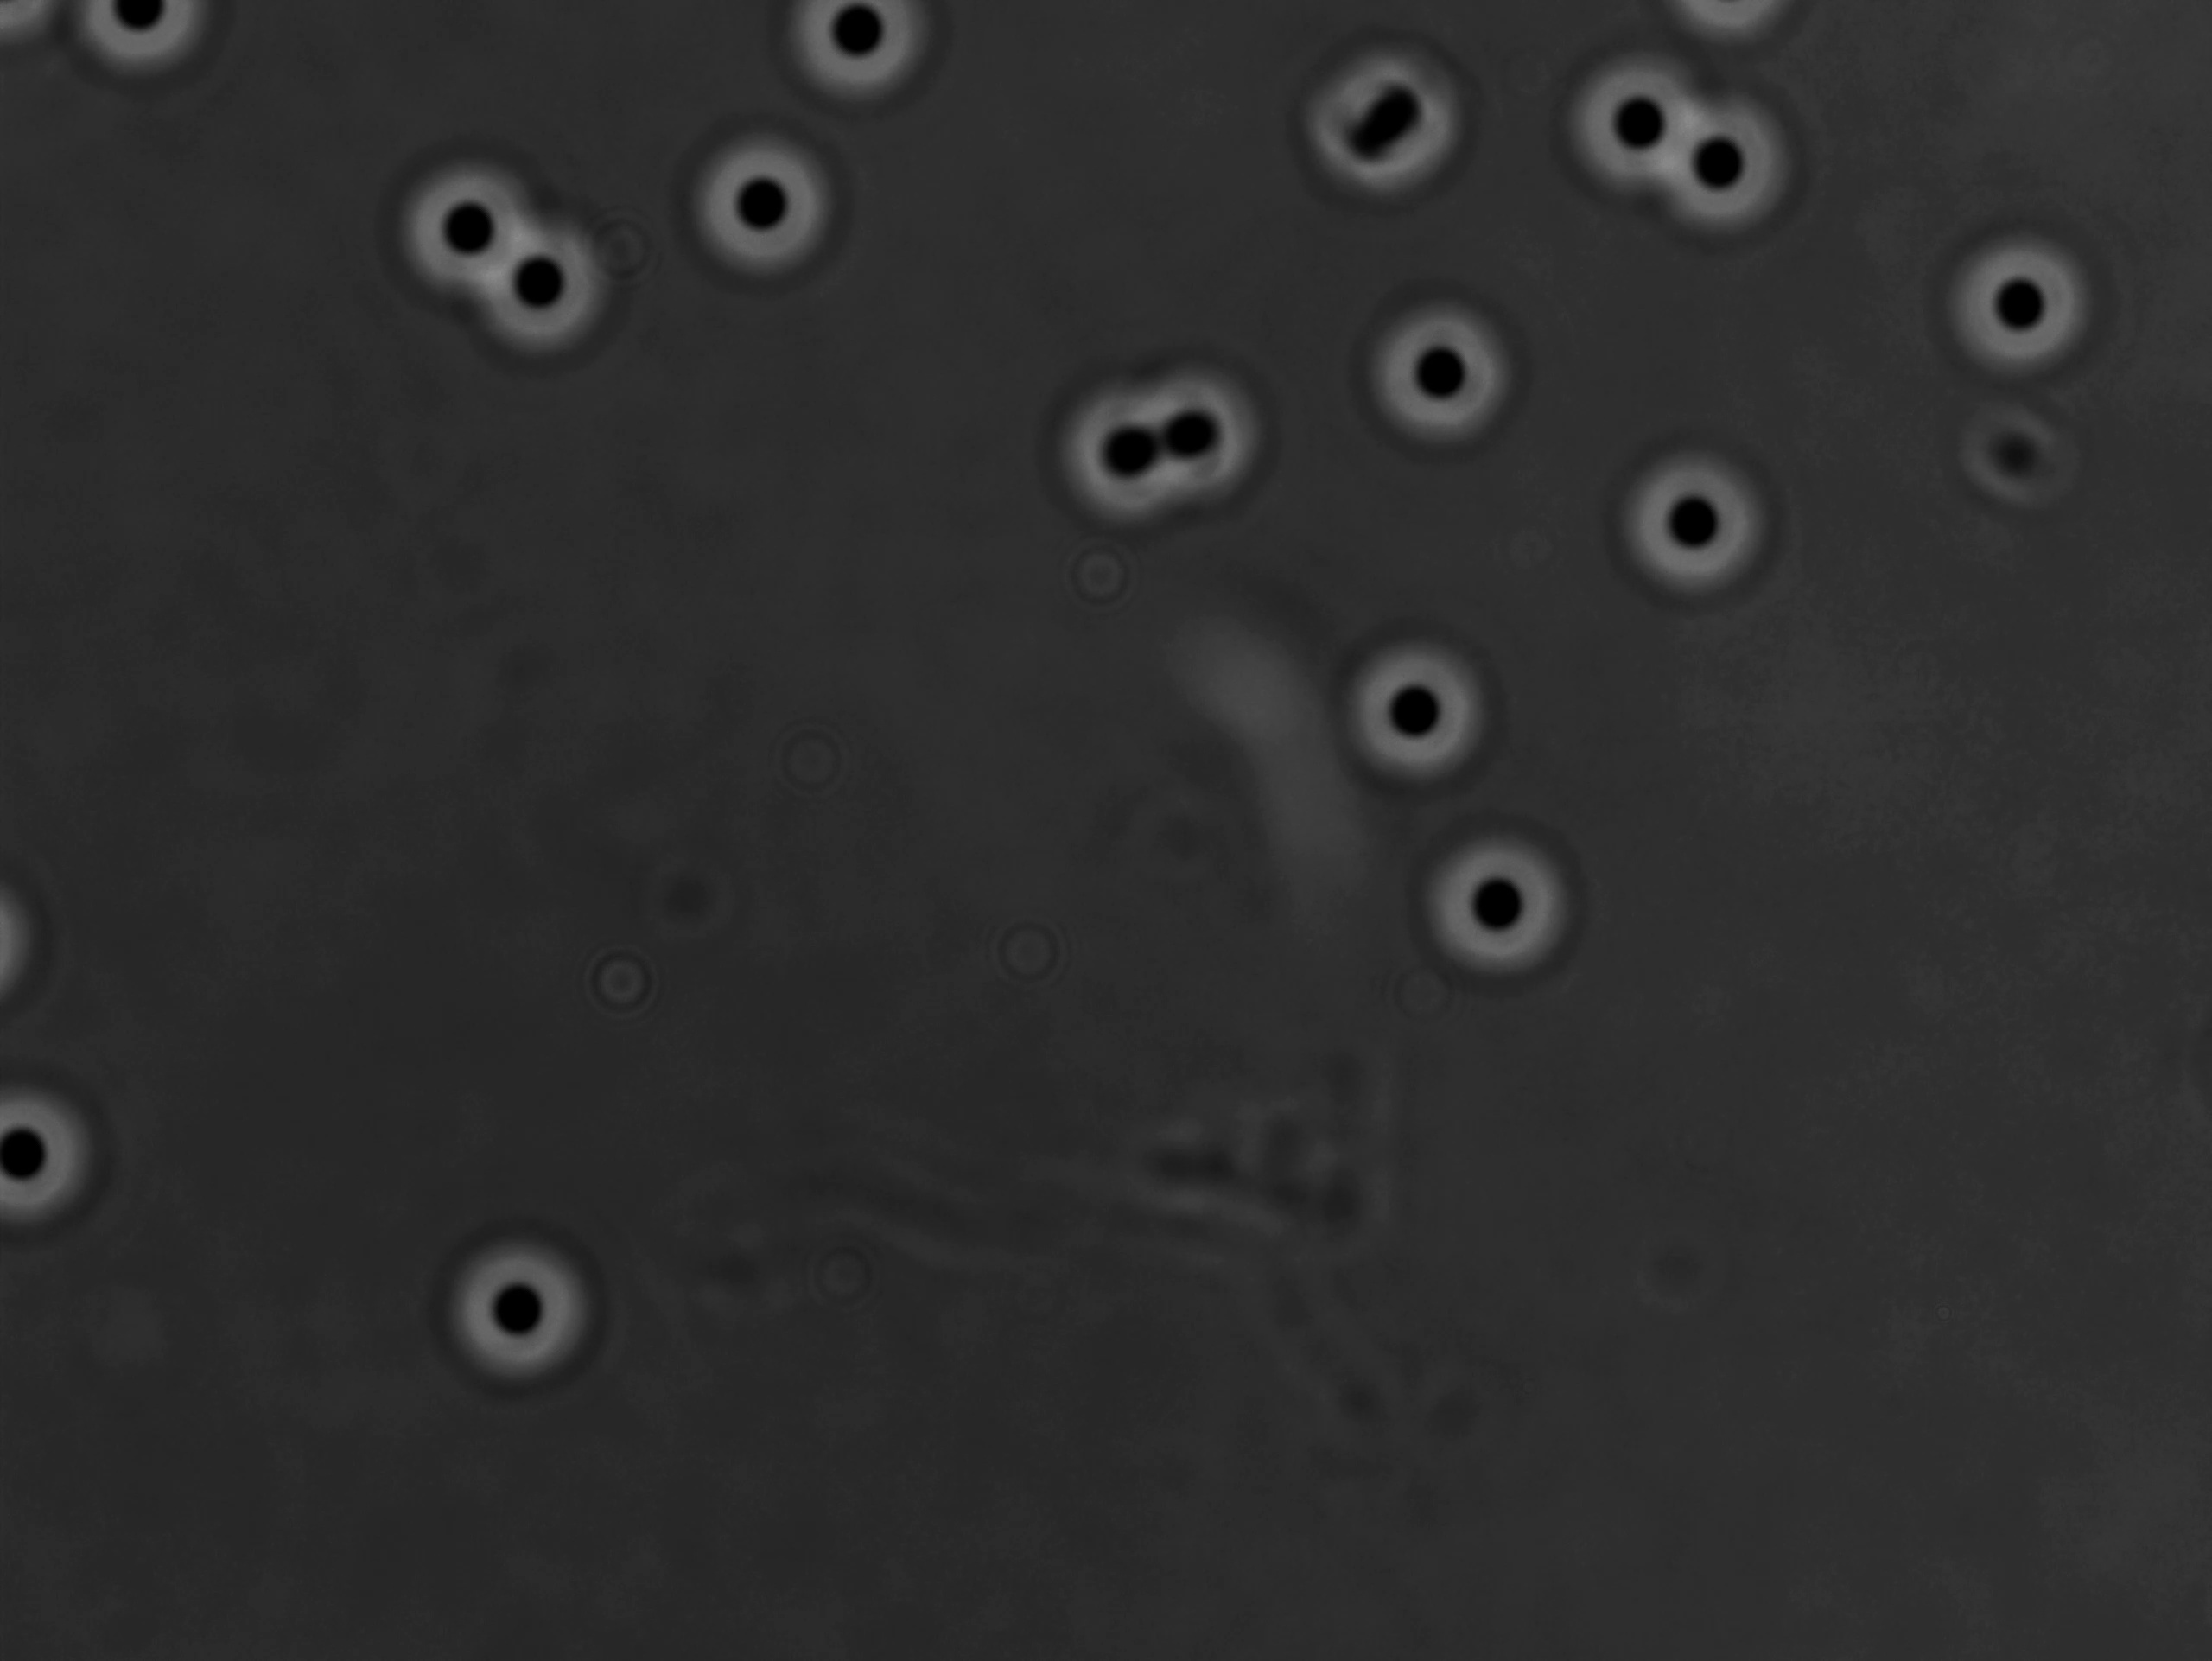depth:-40: (424, 1207, 611, 1413), (1317, 635, 1519, 801), (1935, 229, 2120, 393), (1410, 829, 1589, 995), (679, 133, 846, 297), (1612, 448, 1781, 609), (377, 159, 536, 328), (1355, 297, 1516, 462), (1652, 89, 1816, 246), (1047, 372, 1197, 530), (471, 220, 628, 368), (1558, 56, 1711, 202), (1132, 345, 1277, 499)
